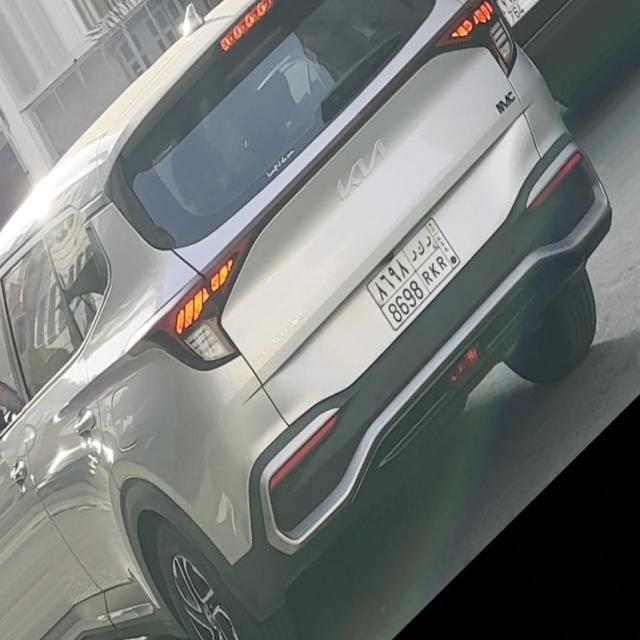Car-plate: (348, 190, 481, 351)
